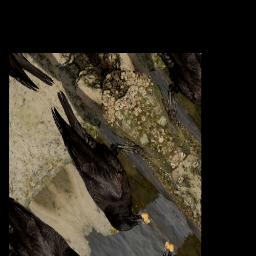Crow: (27, 70, 180, 245)
